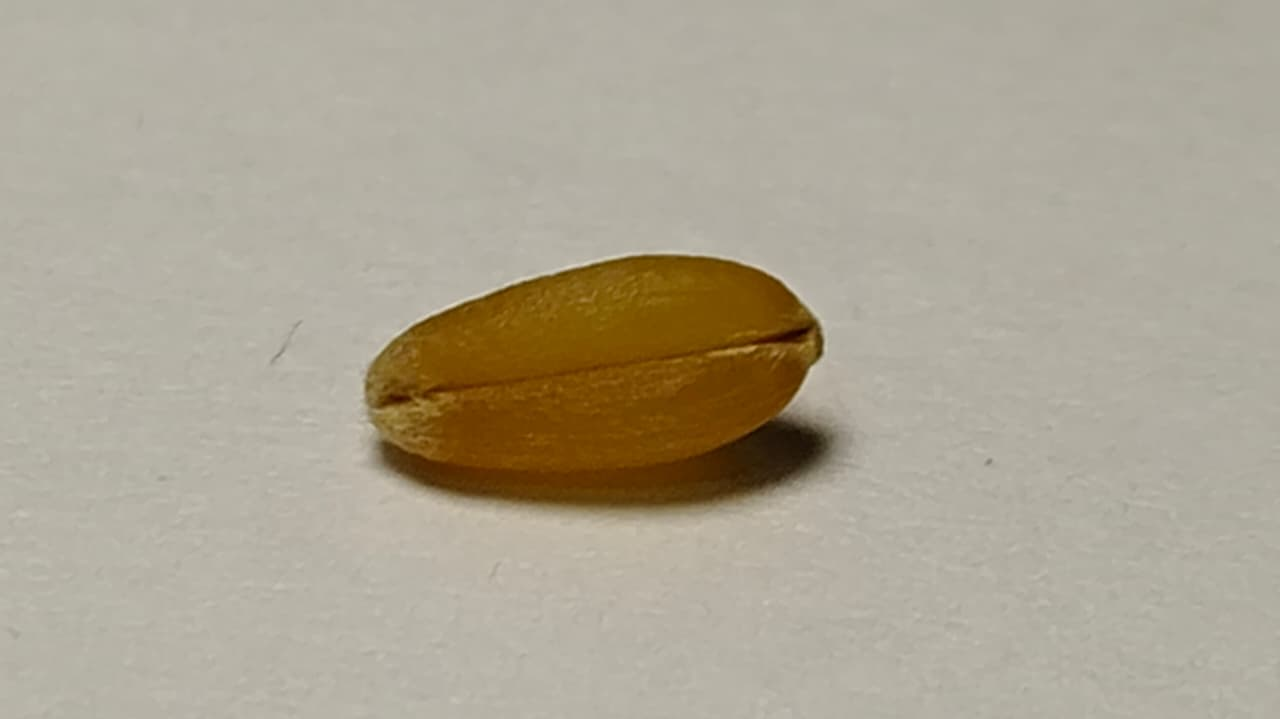healthy: (365, 254, 822, 471)
